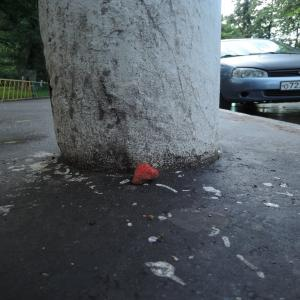Vehicle-registration-plate: (281, 82, 300, 92)
